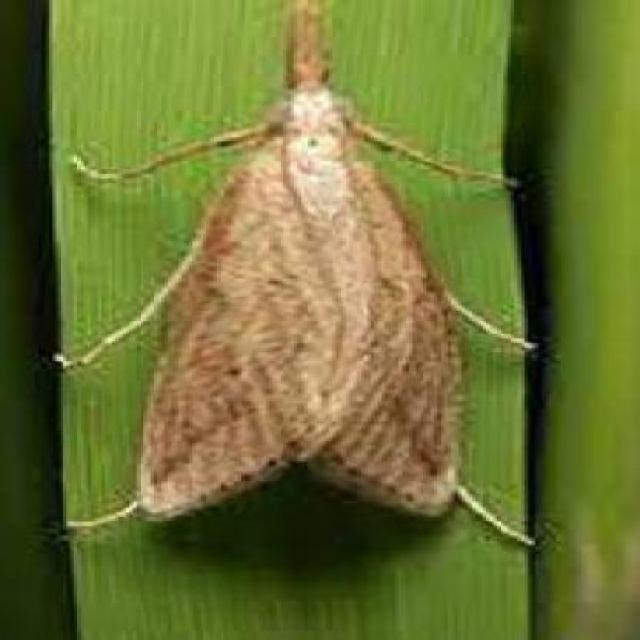stem-borer: (63, 0, 522, 557)
